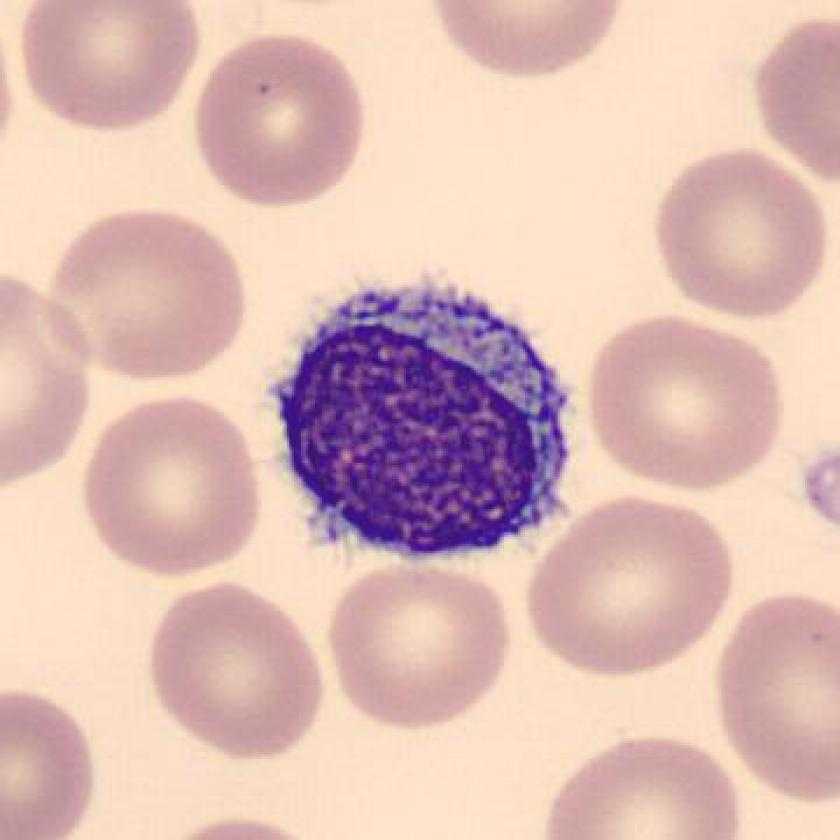lymphocyte: (258, 274, 594, 580)
